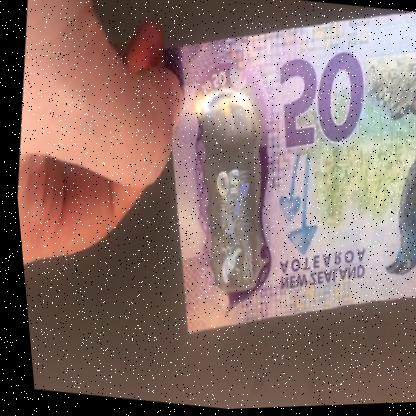50B: (178, 98, 273, 293)
